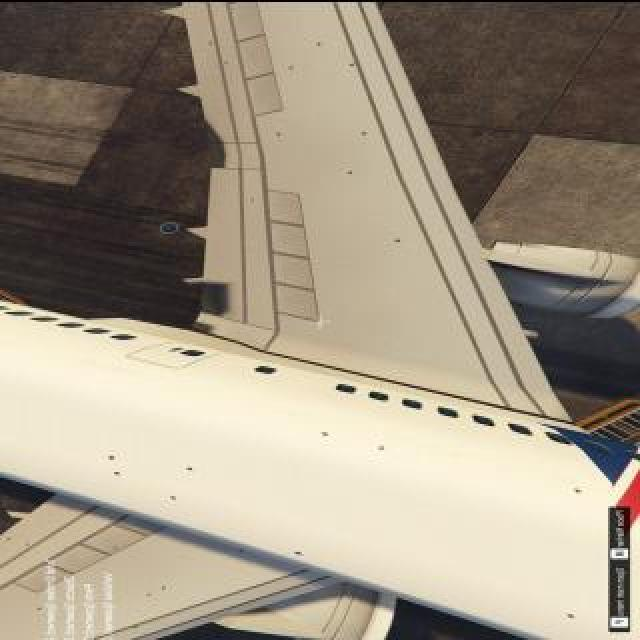crack: (570, 485, 586, 493), (318, 429, 334, 437), (181, 464, 197, 472), (296, 548, 308, 558), (391, 236, 405, 244), (274, 129, 284, 139), (346, 168, 358, 176), (314, 39, 324, 47), (378, 444, 388, 452), (158, 583, 168, 591), (169, 495, 181, 501), (103, 455, 119, 459), (239, 548, 247, 556), (109, 544, 119, 550), (567, 614, 579, 618), (347, 61, 359, 65), (113, 470, 121, 476), (203, 40, 215, 44), (221, 60, 233, 64), (286, 65, 296, 69), (360, 131, 368, 135)
